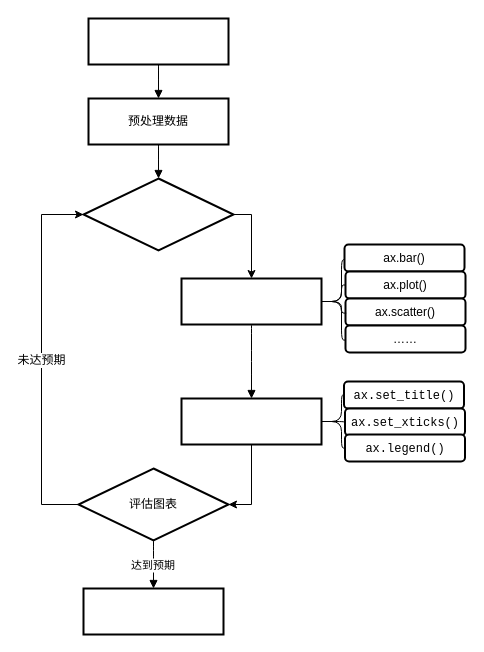
Some shapes in this 484 by 652 pixel diagram are drawn without their labels. Here are the shapes that lost their labels. From the top down, the box of each, then its label:
(87, 17, 229, 65): 确认数据分析目标
(82, 177, 234, 251): 选择图表类型
(180, 277, 322, 325): 绘制图表
(180, 397, 322, 445): 定制与美化图表
(82, 587, 224, 635): 输出与展示 （保存文件或显示）
